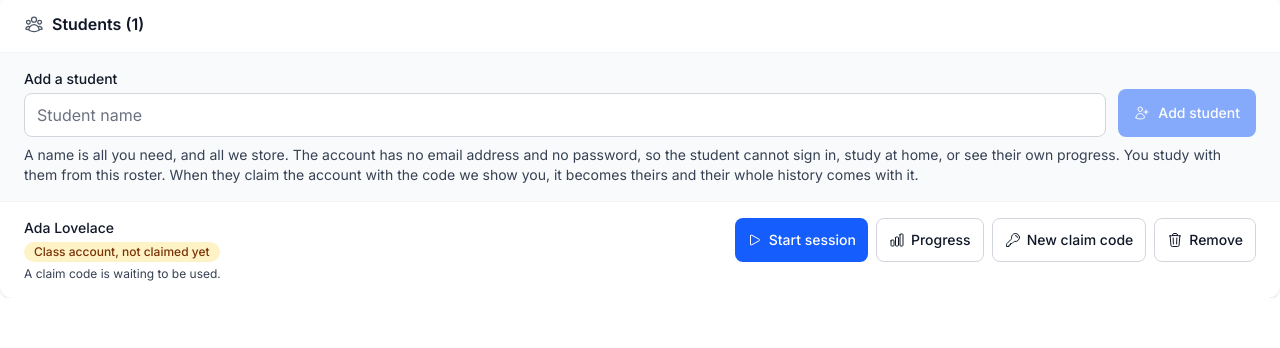
it: ClassroomRoster › asks for confirmation before removing, and says the account survives
The image size is (1280, 348).
Click the button named "remove Ada Lovelace": (1205, 240) left=1154, top=218, right=1256, bottom=262
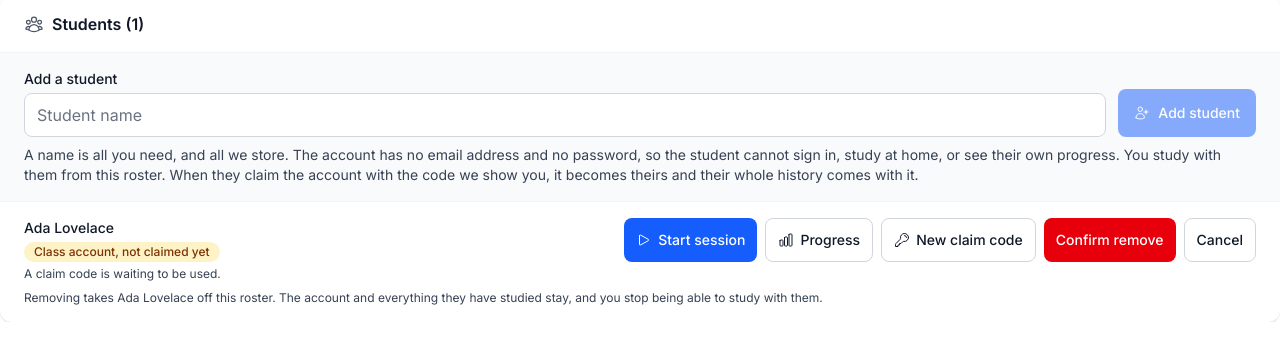
Now the text "The account and everything" is shown, box left=194, top=290, right=823, bottom=305
Click the button "Confirm remove": (1110, 240) left=1044, top=218, right=1176, bottom=262
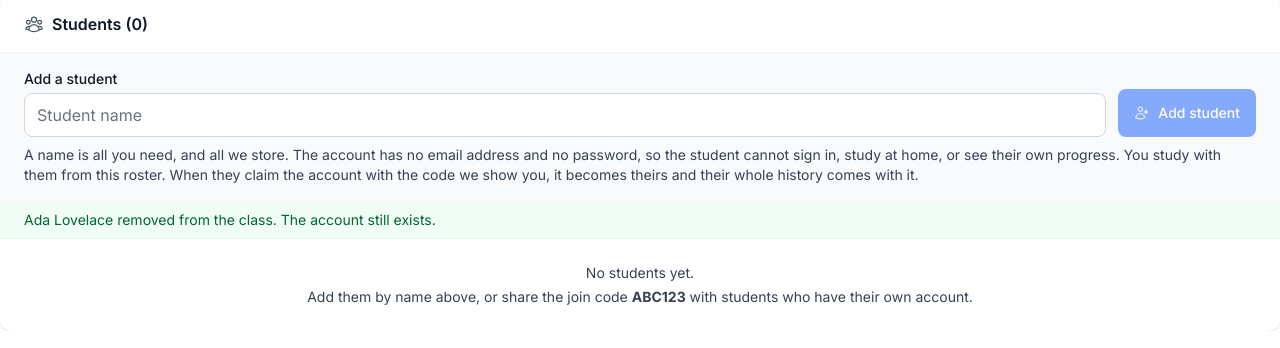
Now the text "Ada Lovelace removed from the class. The account still exists." is shown, box left=0, top=202, right=1279, bottom=239
